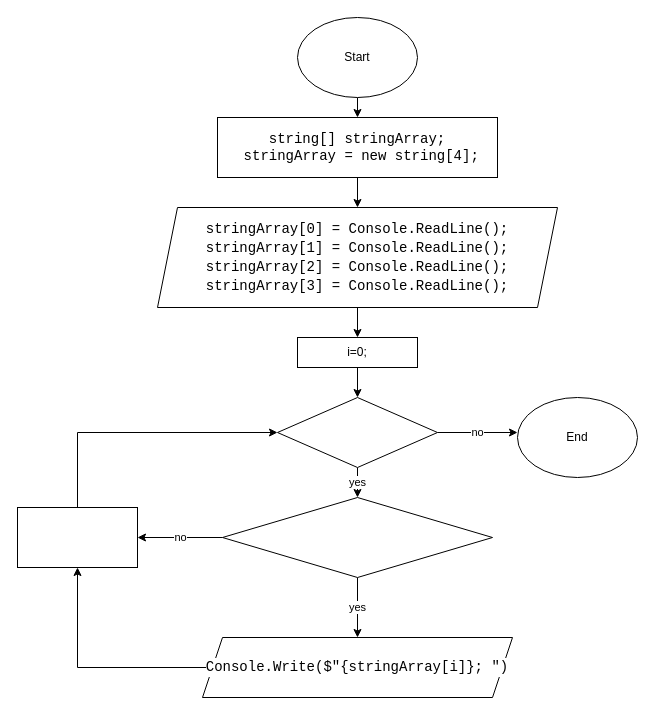
Image size: 655x715. Some labels were removed from this diagram. The centre of each missing label's shape, as x and y in pixels:
"i++" goes at point (77, 537).
"i<stringArray.Length" goes at point (357, 432).
"stringArray[i].Length <= 3" goes at point (357, 537).
